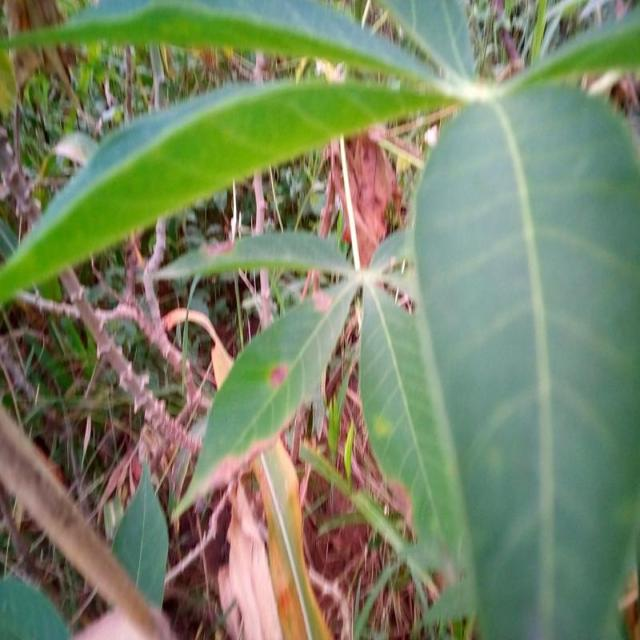cassava leaf: (1, 0, 638, 638), (411, 80, 638, 638), (0, 75, 460, 305), (169, 274, 357, 523)
